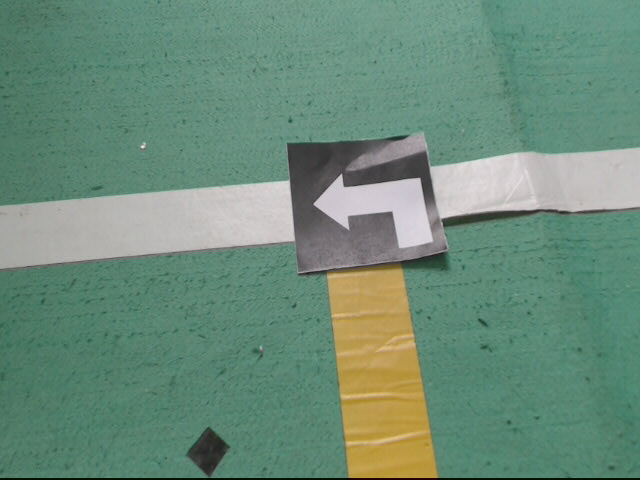left: (285, 130, 455, 279)
